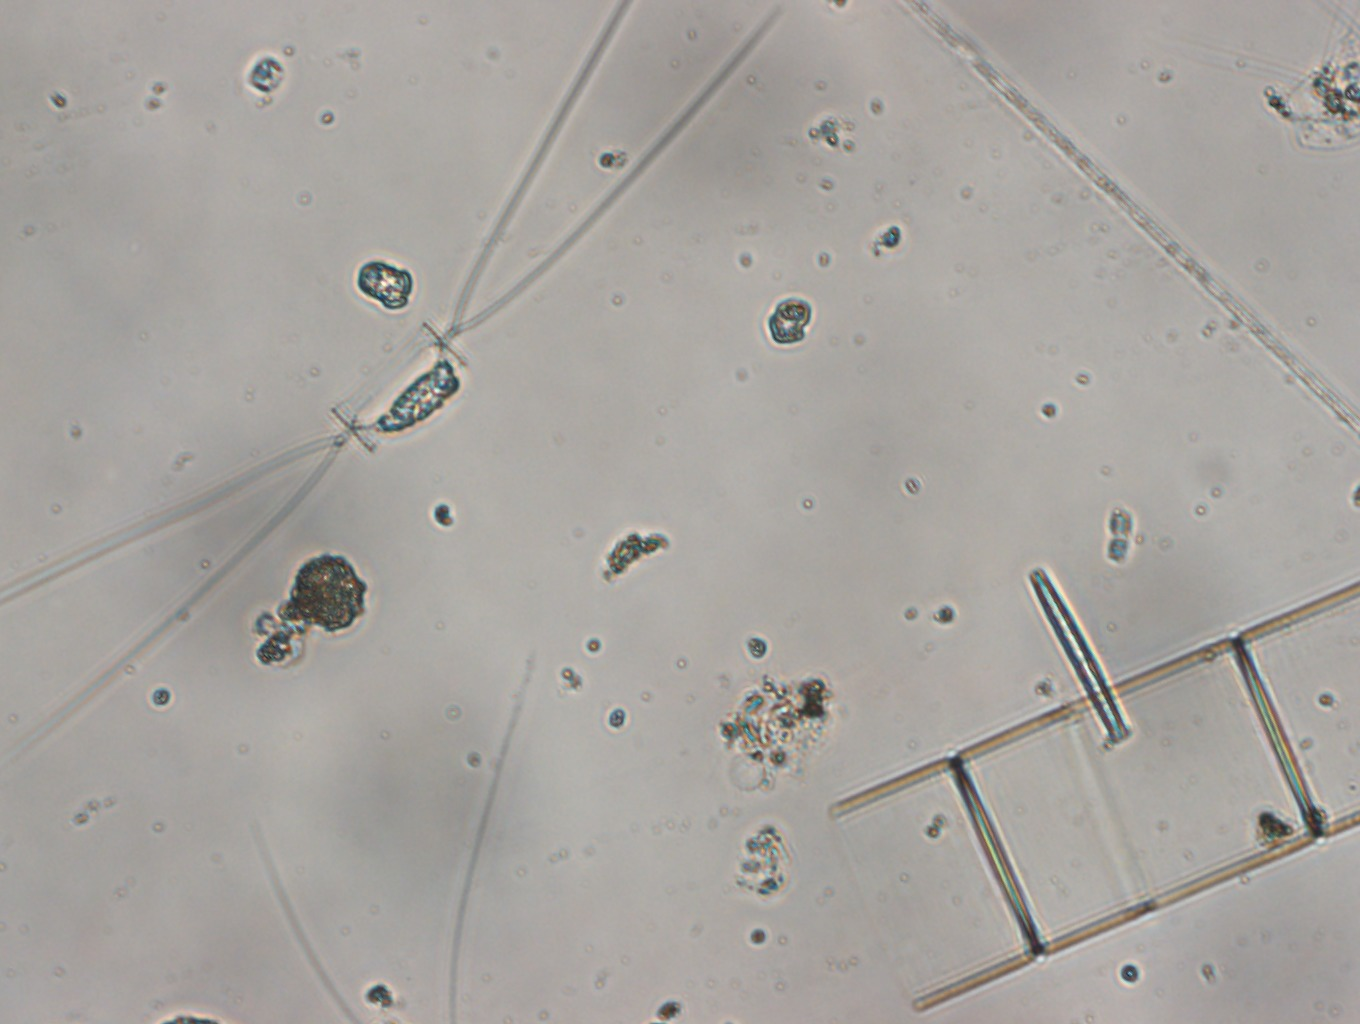chaetoceros: (4, 1, 789, 762)
guinardia flaccida: (827, 575, 1360, 1010)
